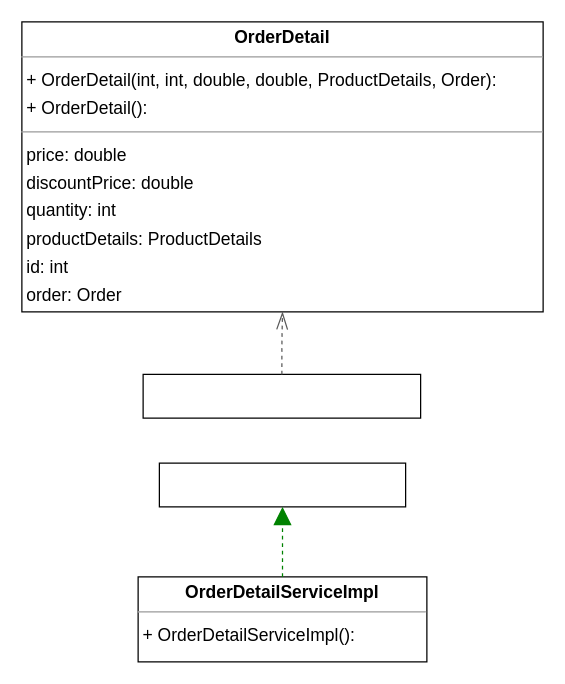
The diagram is 565 pixels wide and 684 high, and some of its shapes have lost their labels. The shapes that lost their labels are listed below. From the top down, each one's centre as x and y in pixels, then its label:
(x=281, y=395): <<interface>> OrderDetailRepository
(x=282, y=484): <<interface>> OrderDetailService
